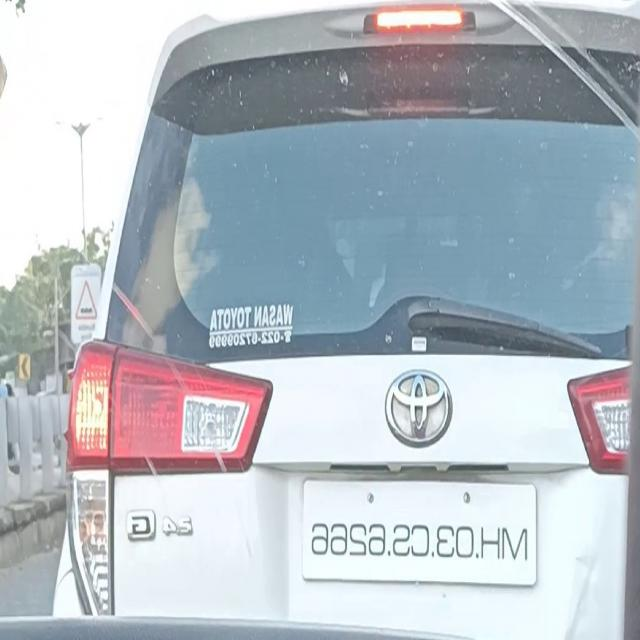license_plate: (294, 472, 546, 600)
